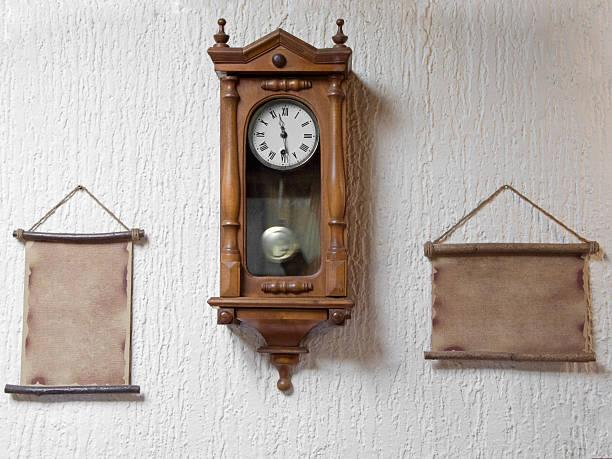clock: (248, 101, 320, 172)
